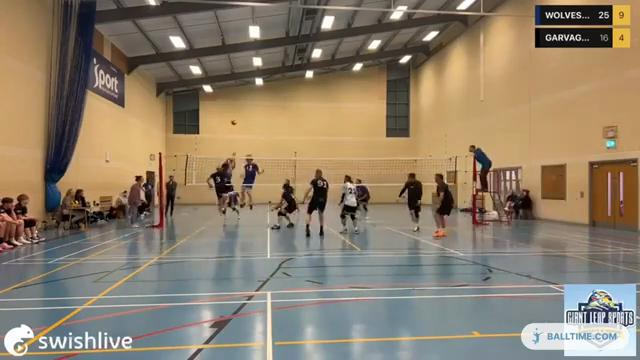Attack: (199, 153, 237, 219)
Player: (303, 169, 328, 236), (399, 173, 422, 231), (271, 179, 297, 229), (434, 174, 453, 236), (339, 175, 358, 233), (356, 179, 369, 220), (227, 184, 239, 218), (282, 179, 294, 194)
ball: (231, 119, 237, 127)
